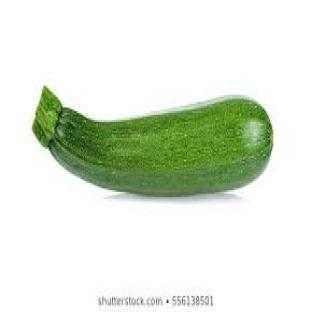Zucchini: (33, 88, 273, 195)
